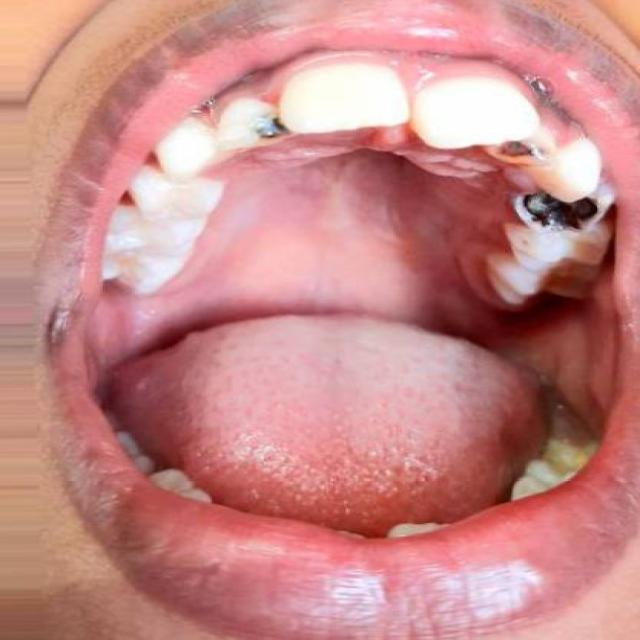caries: (510, 178, 618, 246), (456, 117, 558, 176), (223, 104, 316, 158)
